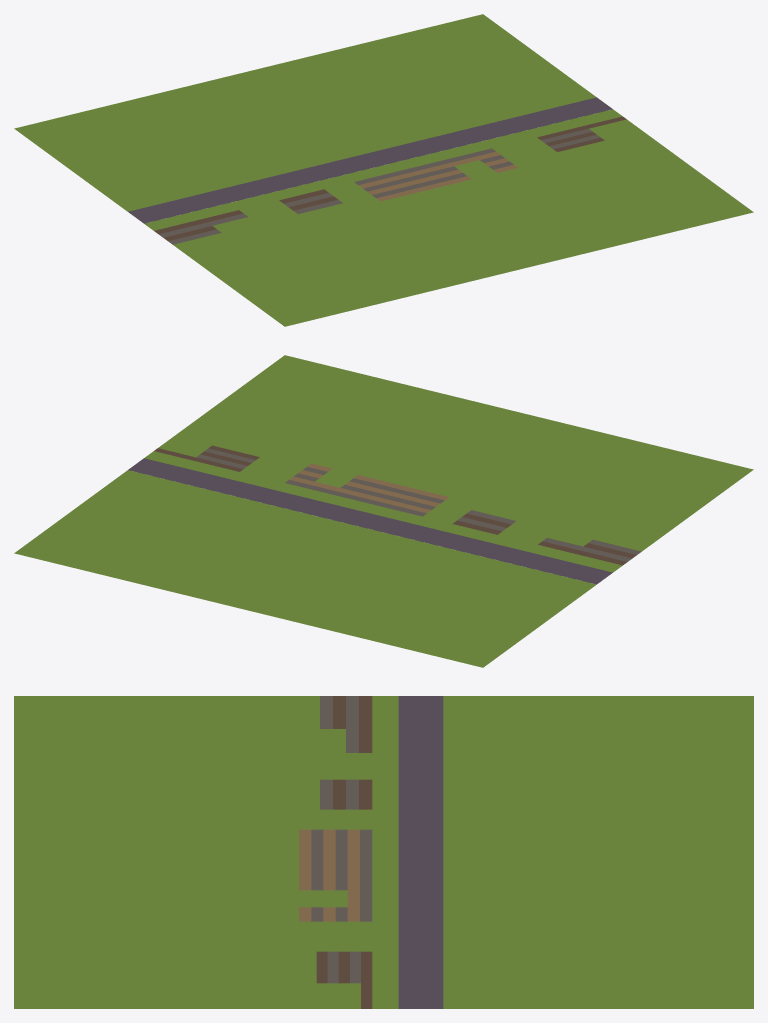
The model's file is cure-9-1.glb.
3 renders of one model, top to bottom at view 1: azimuth 30°, elevation 25°; view 2: azimuth 150°, elevation 25°; view 3: azimuth 270°, elevation 25°, orthographic. The views are drawn at different scales.
Parts seen in each view (by area): view 1: cure-9-1; view 2: cure-9-1; view 3: cure-9-1.
Boxes of the visible parts, box(x1,y1,x2,y2) form: cure-9-1: box(14, 14, 753, 326); cure-9-1: box(14, 355, 753, 667); cure-9-1: box(14, 696, 753, 1008).
Size of the model in its own units: 100 by 0.008 by 100.
